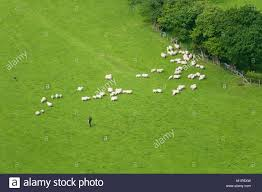sheep: (151, 87, 162, 95), (122, 87, 133, 94), (104, 72, 113, 79), (39, 95, 46, 103), (80, 95, 87, 103), (158, 51, 166, 58), (156, 67, 164, 74), (44, 101, 53, 107), (114, 87, 121, 94), (170, 89, 178, 95), (198, 74, 206, 80), (54, 91, 59, 100), (107, 87, 114, 93), (141, 72, 148, 78), (180, 60, 188, 65), (34, 110, 40, 116), (172, 74, 181, 78), (76, 86, 83, 91), (134, 72, 141, 77), (109, 96, 117, 100), (189, 83, 196, 87), (99, 90, 104, 95), (199, 64, 204, 69), (40, 108, 44, 113), (149, 67, 154, 71), (91, 94, 95, 98)
